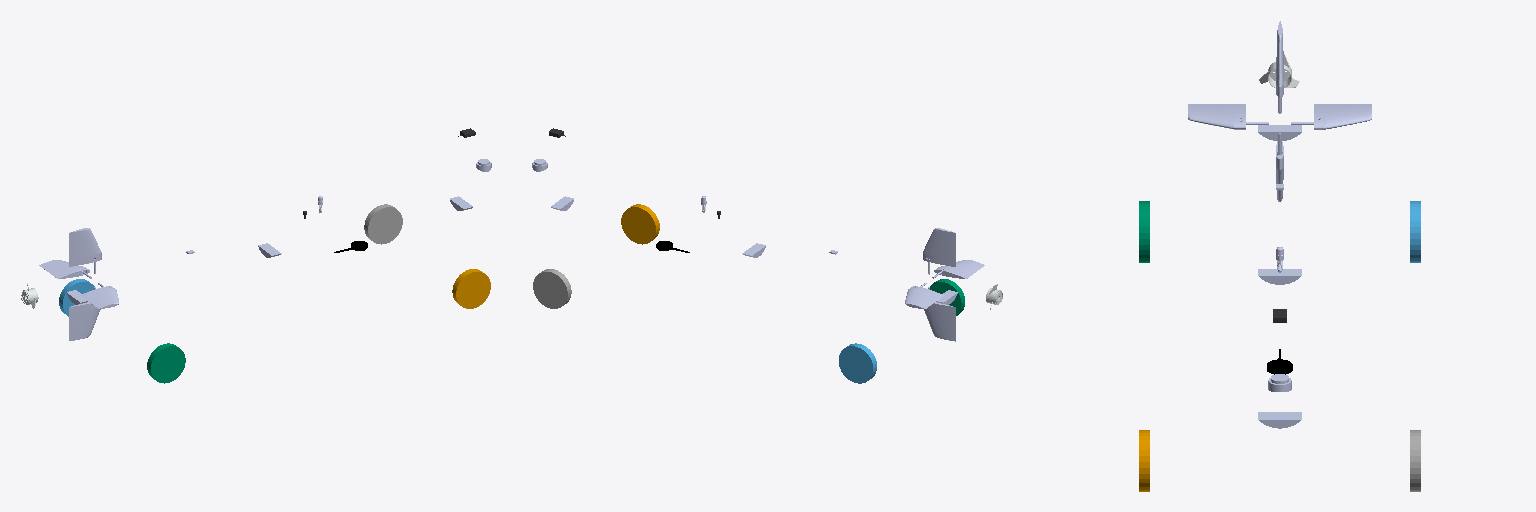
The robot description file, URDF, robot "ros_pralay_2_v1":
<?xml version="1.0" encoding="utf-8"?>
<!-- This URDF was automatically created by SolidWorks to URDF Exporter! Originally created by Stephen Brawner (brawner@gmail.com) 
     Commit Version: 1.6.0-4-g7f85cfe  Build Version: 1.6.7995.38578
     For more information, please see http://wiki.ros.org/sw_urdf_exporter -->
<robot name="ros_pralay_2_v1">
  <link name="base_link">
    <inertial>
      <origin xyz="-0.0695761062294844 -9.48671346927477E-06 0.000877181801452732" rpy="0 0 0" />
      <mass value="9.79712043227885" />
      <inertia ixx="0.0447126235666347" ixy="3.94289693366845E-07" ixz="-0.000145403305859678" iyy="0.253973375427658" iyz="-1.84761079624565E-07" izz="0.254731789225581" />
    </inertial>
    <visual>
      <origin xyz="0 0 0" rpy="0 0 0" />
      <geometry>
        <mesh filename="package://ros_pralay_2_v1/meshes/base_link.STL" />
      </geometry>
      <material name="">
        <color rgba="0.792156862745098 0.819607843137255 0.933333333333333 1" />
      </material>
    </visual>
    <collision>
      <origin xyz="0 0 0" rpy="0 0 0" />
      <geometry>
        <mesh filename="package://ros_pralay_2_v1/meshes/base_link.STL" />
      </geometry>
    </collision>
  </link>
  <link name="Relay">
    <inertial>
      <origin xyz="6.83463933226491E-08 4.92662147392475E-07 0.00355113921294595" rpy="0 0 0" />
      <mass value="0.0721986810753826" />
      <inertia ixx="2.04784989278166E-05" ixy="-5.11499199485322E-11" ixz="1.47170550991599E-12" iyy="1.92524275632253E-05" iyz="3.47312728754813E-12" izz="3.07027892657022E-05" />
    </inertial>
    <visual>
      <origin xyz="0 0 0" rpy="0 0 0" />
      <geometry>
        <mesh filename="package://ros_pralay_2_v1/meshes/Relay.STL" />
      </geometry>
      <material name="">
        <color rgba="0.792156862745098 0.819607843137255 0.933333333333333 1" />
      </material>
    </visual>
    <collision>
      <origin xyz="0 0 0" rpy="0 0 0" />
      <geometry>
        <mesh filename="package://ros_pralay_2_v1/meshes/Relay.STL" />
      </geometry>
    </collision>
  </link>
  <joint name="Relay_Joint" type="fixed">
    <origin xyz="0.958335678874898 0 0.0880385961079187" rpy="0 0 0" />
    <parent link="base_link" />
    <child link="Relay" />
    <axis xyz="0 0 0" />
  </joint>
  <link name="GPS">
    <inertial>
      <origin xyz="-0.000174359402530189 -1.12797282974888E-16 -0.00901589082133974" rpy="0 0 0" />
      <mass value="0.0342666933460838" />
      <inertia ixx="4.89018208757262E-06" ixy="-2.44853196285097E-20" ixz="-1.86912004033636E-08" iyy="8.33574324345704E-06" iyz="4.30697333592379E-20" izz="1.14366924213395E-05" />
    </inertial>
    <visual>
      <origin xyz="0 0 0" rpy="0 0 0" />
      <geometry>
        <mesh filename="package://ros_pralay_2_v1/meshes/GPS.STL" />
      </geometry>
      <material name="">
        <color rgba="0.250980392156863 0.250980392156863 0.250980392156863 1" />
      </material>
    </visual>
    <collision>
      <origin xyz="0 0 0" rpy="0 0 0" />
      <geometry>
        <mesh filename="package://ros_pralay_2_v1/meshes/GPS.STL" />
      </geometry>
    </collision>
  </link>
  <joint name="GPS_Joint" type="fixed">
    <origin xyz="0.884351257994062 0 0.257000000000018" rpy="0 0 0" />
    <parent link="base_link" />
    <child link="GPS" />
    <axis xyz="0 0 0" />
  </joint>
  <link name="NAV_light">
    <inertial>
      <origin xyz="1.18349905278703E-06 -1.74010305023887E-06 0.0132550867310289" rpy="0 0 0" />
      <mass value="0.0131155151362768" />
      <inertia ixx="1.63585932185847E-06" ixy="3.44975534791283E-11" ixz="-2.44298064699824E-10" iyy="1.63597664802954E-06" iyz="-4.71439991911305E-11" izz="5.57734867669779E-07" />
    </inertial>
    <visual>
      <origin xyz="0 0 0" rpy="0 0 0" />
      <geometry>
        <mesh filename="package://ros_pralay_2_v1/meshes/NAV_light.STL" />
      </geometry>
      <material name="">
        <color rgba="0.792156862745098 0.819607843137255 0.933333333333333 1" />
      </material>
    </visual>
    <collision>
      <origin xyz="0 0 0" rpy="0 0 0" />
      <geometry>
        <mesh filename="package://ros_pralay_2_v1/meshes/NAV_light.STL" />
      </geometry>
    </collision>
  </link>
  <joint name="NAV_light_Joint" type="fixed">
    <origin xyz="0.207899900987213 0 0.0882500000000149" rpy="0 0 0" />
    <parent link="base_link" />
    <child link="NAV_light" />
    <axis xyz="0 0 0" />
  </joint>
  <link name="DVL">
    <inertial>
      <origin xyz="-0.00524431732304925 -1.35174434053205E-07 -0.00232114159379157" rpy="0 0 0" />
      <mass value="0.0693659769689326" />
      <inertia ixx="1.72247163887539E-05" ixy="1.00373591081006E-10" ixz="2.74297481493299E-08" iyy="2.00855236090643E-05" iyz="-2.90019894644789E-12" izz="3.34153197441074E-05" />
    </inertial>
    <visual>
      <origin xyz="0 0 0" rpy="0 0 0" />
      <geometry>
        <mesh filename="package://ros_pralay_2_v1/meshes/DVL.STL" />
      </geometry>
      <material name="">
        <color rgba="0 0 0 1" />
      </material>
    </visual>
    <collision>
      <origin xyz="0 0 0" rpy="0 0 0" />
      <geometry>
        <mesh filename="package://ros_pralay_2_v1/meshes/DVL.STL" />
      </geometry>
    </collision>
  </link>
  <joint name="DVL_Joint" type="fixed">
    <origin xyz="0.388556867506674 -0.000335044692236923 -0.130006547832249" rpy="0 0 0" />
    <parent link="base_link" />
    <child link="DVL" />
    <axis xyz="0 0 0" />
  </joint>
  <link name="Depth_Sensor">
    <inertial>
      <origin xyz="0 1.38161622729997E-20 -0.0061086776762856" rpy="0 0 0" />
      <mass value="0.00323998658407695" />
      <inertia ixx="2.47080428194329E-07" ixy="-9.99644539096066E-24" ixz="1.57361070904428E-23" iyy="2.47080428194329E-07" iyz="3.36544284623507E-23" izz="7.50116883920103E-08" />
    </inertial>
    <visual>
      <origin xyz="0 0 0" rpy="0 0 0" />
      <geometry>
        <mesh filename="package://ros_pralay_2_v1/meshes/Depth_Sensor.STL" />
      </geometry>
      <material name="">
        <color rgba="0.250980392156863 0.250980392156863 0.250980392156863 1" />
      </material>
    </visual>
    <collision>
      <origin xyz="0 0 0" rpy="0 0 0" />
      <geometry>
        <mesh filename="package://ros_pralay_2_v1/meshes/Depth_Sensor.STL" />
      </geometry>
    </collision>
  </link>
  <joint name="Depth_Sensor_Joint" type="fixed">
    <origin xyz="0.137899900987215 0 0.072000000000015" rpy="0 0 0" />
    <parent link="base_link" />
    <child link="Depth_Sensor" />
    <axis xyz="0 0 0" />
  </joint>
  <link name="Fin_Top">
    <inertial>
      <origin xyz="-0.0421800652503688 0.000240028269424186 0.0913440444102142" rpy="0 0 0" />
      <mass value="0.261093809093477" />
      <inertia ixx="0.000424064486656722" ixy="-2.76382339936417E-09" ixz="7.79514426875884E-05" iyy="0.000682563718535557" iyz="1.36285655618386E-08" izz="0.000270491233223645" />
    </inertial>
    <visual>
      <origin xyz="0 0 0" rpy="0 0 0" />
      <geometry>
        <mesh filename="package://ros_pralay_2_v1/meshes/Fin_Top.STL" />
      </geometry>
      <material name="">
        <color rgba="0.792156862745098 0.819607843137255 0.933333333333333 1" />
      </material>
    </visual>
    <collision>
      <origin xyz="0 0 0" rpy="0 0 0" />
      <geometry>
        <mesh filename="package://ros_pralay_2_v1/meshes/Fin_Top.STL" />
      </geometry>
    </collision>
  </link>
  <joint name="Fin_Top_Joint" type="revolute">
    <origin xyz="-0.82585 0 0.0595" rpy="0 0 0" />
    <parent link="base_link" />
    <child link="Fin_Top" />
    <axis xyz="0 0 1" />
    <limit lower="-0.907571" upper="0.907571" effort="10" velocity="2" />
  </joint>
  <link name="Fin_Left">
    <inertial>
      <origin xyz="-0.0421800718169671 0.0913440469684711 -0.00024004287078554" rpy="0 0 0" />
      <mass value="0.261093813486492" />
      <inertia ixx="0.000424064324658659" ixy="7.79514857209155E-05" ixz="2.76403041721111E-09" iyy="0.000270491226108217" iyz="-1.36456427720851E-08" izz="0.000682563551710912" />
    </inertial>
    <visual>
      <origin xyz="0 0 0" rpy="0 0 0" />
      <geometry>
        <mesh filename="package://ros_pralay_2_v1/meshes/Fin_Left.STL" />
      </geometry>
      <material name="">
        <color rgba="0.792156862745098 0.819607843137255 0.933333333333333 1" />
      </material>
    </visual>
    <collision>
      <origin xyz="0 0 0" rpy="0 0 0" />
      <geometry>
        <mesh filename="package://ros_pralay_2_v1/meshes/Fin_Left.STL" />
      </geometry>
    </collision>
  </link>
  <joint name="Fin_Left_Joint" type="revolute">
    <origin xyz="-0.82585 0.0595 0" rpy="0 0 0" />
    <parent link="base_link" />
    <child link="Fin_Left" />
    <axis xyz="0 1 0" />
    <limit lower="-0.907571" upper="0.907571" effort="10" velocity="2" />
  </joint>
  <link name="Fin_Bottom">
    <inertial>
      <origin xyz="-0.0421800482388229 -0.000240035606270037 -0.0913441037902421" rpy="0 0 0" />
      <mass value="0.261094096502556" />
      <inertia ixx="0.00042406429585438" ixy="2.76217017863878E-09" ixz="-7.79514622426508E-05" iyy="0.000682563527110738" iyz="1.36444924375591E-08" izz="0.000270491230036146" />
    </inertial>
    <visual>
      <origin xyz="0 0 0" rpy="0 0 0" />
      <geometry>
        <mesh filename="package://ros_pralay_2_v1/meshes/Fin_Bottom.STL" />
      </geometry>
      <material name="">
        <color rgba="0.792156862745098 0.819607843137255 0.933333333333333 1" />
      </material>
    </visual>
    <collision>
      <origin xyz="0 0 0" rpy="0 0 0" />
      <geometry>
        <mesh filename="package://ros_pralay_2_v1/meshes/Fin_Bottom.STL" />
      </geometry>
    </collision>
  </link>
  <joint name="Fin_Bottom_Joint" type="revolute">
    <origin xyz="-0.82585 0 -0.0595" rpy="0 0 0" />
    <parent link="base_link" />
    <child link="Fin_Bottom" />
    <axis xyz="0 0 -1" />
    <limit lower="-0.907571" upper="0.907571" effort="10" velocity="2" />
  </joint>
  <link name="Fin_Right">
    <inertial>
      <origin xyz="-0.0421800718545086 -0.0913440469961033 0.000240042881606959" rpy="0 0 0" />
      <mass value="0.261093813465297" />
      <inertia ixx="0.000424064324641104" ixy="-7.79514856604083E-05" ixz="-2.76403902495547E-09" iyy="0.000270491226042404" iyz="-1.36456356563039E-08" izz="0.000682563551615187" />
    </inertial>
    <visual>
      <origin xyz="0 0 0" rpy="0 0 0" />
      <geometry>
        <mesh filename="package://ros_pralay_2_v1/meshes/Fin_Right.STL" />
      </geometry>
      <material name="">
        <color rgba="0.792156862745098 0.819607843137255 0.933333333333333 1" />
      </material>
    </visual>
    <collision>
      <origin xyz="0 0 0" rpy="0 0 0" />
      <geometry>
        <mesh filename="package://ros_pralay_2_v1/meshes/Fin_Right.STL" />
      </geometry>
    </collision>
  </link>
  <joint name="Fin_Right_Joint" type="revolute">
    <origin xyz="-0.82585 -0.0595 0" rpy="0 0 0" />
    <parent link="base_link" />
    <child link="Fin_Right" />
    <axis xyz="0 -1 0" />
    <limit lower="-0.907571" upper="0.907571" effort="10" velocity="2" />
  </joint>
  <link name="T1">
    <inertial>
      <origin xyz="0.0135142257403666 -1.92602336297741E-06 -2.9146721686151E-06" rpy="0 0 0" />
      <mass value="0.0661321679007585" />
      <inertia ixx="6.59393410402782E-05" ixy="-2.15009855598357E-09" ixz="-3.39311609334925E-09" iyy="4.21993779557645E-05" iyz="1.57004485773318E-09" izz="4.22029873716778E-05" />
    </inertial>
    <visual>
      <origin xyz="0 0 0" rpy="0 0 0" />
      <geometry>
        <mesh filename="package://ros_pralay_2_v1/meshes/T1.STL" />
      </geometry>
      <material name="">
        <color rgba="0.898039215686275 0.917647058823529 0.929411764705882 1" />
      </material>
    </visual>
    <collision>
      <origin xyz="0 0 0" rpy="0 0 0" />
      <geometry>
        <mesh filename="package://ros_pralay_2_v1/meshes/T1.STL" />
      </geometry>
    </collision>
  </link>
  <joint name="T1_Joint" type="continuous">
    <origin xyz="-1.1433 0 0" rpy="0 0 0" />
    <parent link="base_link" />
    <child link="T1" />
    <axis xyz="-1 0 0" />
  </joint>
  <link name="Front_DW">
    <inertial>
      <origin xyz="-1.77635683940025E-15 -2.57363315967515E-16 -0.0105693590405256" rpy="0 0 0" />
      <mass value="0.0928718542183865" />
      <inertia ixx="6.81295590492205E-05" ixy="-4.03756699216532E-21" ixz="2.92269126728774E-21" iyy="2.00095854936661E-05" iyz="8.79095622520496E-21" izz="7.94642243542598E-05" />
    </inertial>
    <visual>
      <origin xyz="0 0 0" rpy="0 0 0" />
      <geometry>
        <mesh filename="package://ros_pralay_2_v1/meshes/Front_DW.STL" />
      </geometry>
      <material name="">
        <color rgba="0.792156862745098 0.819607843137255 0.933333333333333 1" />
      </material>
    </visual>
    <collision>
      <origin xyz="0 0 0" rpy="0 0 0" />
      <geometry>
        <mesh filename="package://ros_pralay_2_v1/meshes/Front_DW.STL" />
      </geometry>
    </collision>
  </link>
  <joint name="Front_DW_Joint" type="fixed">
    <origin xyz="0.85499 0 -0.05" rpy="0 0 0" />
    <parent link="base_link" />
    <child link="Front_DW" />
    <axis xyz="0 0 0" />
  </joint>
  <link name="Centre_DW">
    <inertial>
      <origin xyz="-6.93889390390723E-18 -1.89321447037049E-17 -0.0105693590405539" rpy="0 0 0" />
      <mass value="0.0928718542183867" />
      <inertia ixx="6.81295590492206E-05" ixy="-2.63812048382479E-21" ixz="-5.9250250619812E-21" iyy="2.00095854936661E-05" iyz="7.22780780491922E-21" izz="7.946422435426E-05" />
    </inertial>
    <visual>
      <origin xyz="0 0 0" rpy="0 0 0" />
      <geometry>
        <mesh filename="package://ros_pralay_2_v1/meshes/Centre_DW.STL" />
      </geometry>
      <material name="">
        <color rgba="0.792156862745098 0.819607843137255 0.933333333333333 1" />
      </material>
    </visual>
    <collision>
      <origin xyz="0 0 0" rpy="0 0 0" />
      <geometry>
        <mesh filename="package://ros_pralay_2_v1/meshes/Centre_DW.STL" />
      </geometry>
    </collision>
  </link>
  <joint name="Centre_DW_Joint" type="fixed">
    <origin xyz="-0.0235 0 -0.05" rpy="0 0 0" />
    <parent link="base_link" />
    <child link="Centre_DW" />
    <axis xyz="0 0 0" />
  </joint>
  <link name="Rear_DW">
    <inertial>
      <origin xyz="-1.15557833353844E-16 -0.0605693590405578 1.11022302462516E-16" rpy="0 0 0" />
      <mass value="0.0928718542183865" />
      <inertia ixx="2.00095854936661E-05" ixy="-5.54017674895535E-21" ixz="5.03637646139913E-21" iyy="7.94642243542599E-05" iyz="1.64281792080161E-21" izz="6.81295590492206E-05" />
    </inertial>
    <visual>
      <origin xyz="0 0 0" rpy="0 0 0" />
      <geometry>
        <mesh filename="package://ros_pralay_2_v1/meshes/Rear_DW.STL" />
      </geometry>
      <material name="">
        <color rgba="0.792156862745098 0.819607843137255 0.933333333333333 1" />
      </material>
    </visual>
    <collision>
      <origin xyz="0 0 0" rpy="0 0 0" />
      <geometry>
        <mesh filename="package://ros_pralay_2_v1/meshes/Rear_DW.STL" />
      </geometry>
    </collision>
  </link>
  <joint name="Rear_DW_Joint" type="fixed">
    <origin xyz="-0.902 0 0" rpy="1.5708 0 -1.5708" />
    <parent link="base_link" />
    <child link="Rear_DW" />
    <axis xyz="0 0 0" />
  </joint>
  <link name="IMU">
    <inertial>
      <origin xyz="-9.2148511043888E-15 2.3922300293036E-17 -0.0025" rpy="0 0 0" />
      <mass value="0.00308" />
      <inertia ixx="1.30643333333333E-07" ixy="9.87041836114139E-22" ixz="-1.30699345824829E-21" iyy="2.07643333333334E-07" iyz="-1.22053361918098E-21" izz="3.25453333333334E-07" />
    </inertial>
    <visual>
      <origin xyz="0 0 0" rpy="0 0 0" />
      <geometry>
        <mesh filename="package://ros_pralay_2_v1/meshes/IMU.STL" />
      </geometry>
      <material name="">
        <color rgba="0.792156862745098 0.819607843137255 0.933333333333333 1" />
      </material>
    </visual>
    <collision>
      <origin xyz="0 0 0" rpy="0 0 0" />
      <geometry>
        <mesh filename="package://ros_pralay_2_v1/meshes/IMU.STL" />
      </geometry>
    </collision>
  </link>
  <joint name="IMU_Link" type="fixed">
    <origin xyz="-0.3876 0 0.025793" rpy="0 0 0" />
    <parent link="base_link" />
    <child link="IMU" />
    <axis xyz="0 0 0" />
  </joint>
  <link name="front_left_wheel">
    <inertial>
      <mass value="0.1"/>
      <origin xyz="0 0 0"/>
      <inertia 
            ixx="0.001"
            ixy="0"
            ixz="0"
            iyy="0.001"
            iyz="0"
            izz="0.001"/>
    </inertial>
    <visual>
      <geometry>
        <cylinder radius="0.08" length="0.03"/>
      </geometry>
      <material name="black"/>
    </visual>
    <collision>
      <geometry>
        <cylinder radius="0.08" length="0.03"/>
      </geometry>
    </collision>
  </link>
  <link name="front_right_wheel">
    <inertial>
      <mass value="0.1"/>
      <origin xyz="0 0 0"/>
      <inertia 
            ixx="0.001"
            ixy="0"
            ixz="0"
            iyy="0.001"
            iyz="0"
            izz="0.001"/>
    </inertial>
    <visual>
      <geometry>
        <cylinder radius="0.08" length="0.03"/>
      </geometry>
      <material name="black"/>
    </visual>
    <collision>
      <geometry>
        <cylinder radius="0.08" length="0.03"/>
      </geometry>
    </collision>
  </link>
  <link name="rear_left_wheel">
    <inertial>
      <mass value="0.1"/>
      <origin xyz="0 0 0"/>
      <inertia 
            ixx="0.001"
            ixy="0"
            ixz="0"
            iyy="0.001"
            iyz="0"
            izz="0.001"/>
    </inertial>
    <visual>
      <geometry>
        <cylinder radius="0.08" length="0.03"/>
      </geometry>
      <material name="black"/>
    </visual>
    <collision>
      <geometry>
        <cylinder radius="0.08" length="0.03"/>
      </geometry>
    </collision>
  </link>
  <link name="rear_right_wheel">
    <inertial>
      <mass value="0.1"/>
      <origin xyz="0 0 0"/>
      <inertia 
            ixx="0.001"
            ixy="0"
            ixz="0"
            iyy="0.001"
            iyz="0"
            izz="0.001"/>
    </inertial>
    <visual>
      <geometry>
        <cylinder radius="0.08" length="0.03"/>
      </geometry>
      <material name="black"/>
    </visual>
    <collision>
      <geometry>
        <cylinder radius="0.08" length="0.03"/>
      </geometry>
    </collision>
  </link>





  
  <joint name="front_left_wheel_joint"
       type="continuous">
    <origin xyz="0.0 0.0 0.0"
            rpy="1.5708 0 0"/>
    <parent link="front_left_steering"/>
    <child link="front_left_wheel"/>
    <axis xyz="0 0 1"/>
  </joint>
  <joint name="front_right_wheel_joint"
       type="continuous">
    <origin xyz="0.0 0.0 0.0"
            rpy="1.5708 0 0"/>
    <parent link="front_right_steering"/>
    <child link="front_right_wheel"/>
    <axis xyz="0 0 1"/>
  </joint>
  <joint name="rear_left_wheel_joint"
       type="continuous">
    <origin xyz="-0.7 0.35 -0.25"
            rpy="1.5708 0 0"/>
    <parent link="base_link"/>
    <child link="rear_left_wheel"/>
    <axis xyz="0 0 1"/>
  </joint>
  <joint name="rear_right_wheel_joint"
       type="continuous">
    <origin xyz="-0.7 -0.35 -0.25"
            rpy="1.5708 0 0"/>
    <parent link="base_link"/>
    <child link="rear_right_wheel"/>
    <axis xyz="0 0 1"/>
  </joint>
  <link name="front_left_steering"/>
  <link name="front_right_steering"/>
  <joint name="front_left_steering_joint"
       type="revolute">
    <origin xyz="0.7 0.35 -0.25"/>
    <parent link="base_link"/>
    <child link="front_left_steering"/>
    <axis xyz="0 0 1"/>
    <limit
 lower="-0.6"
 upper="0.6"
 effort="20"
 velocity="2"/>
  </joint>
  <joint name="front_right_steering_joint"
       type="revolute">
    <origin xyz="0.7 -0.35 -0.25"/>
    <parent link="base_link"/>
    <child link="front_right_steering"/>
    <axis xyz="0 0 1"/>
    <limit
 lower="-0.6"
 upper="0.6"
 effort="20"
 velocity="2"/>
  </joint>
</robot>

--- Render facts (derived) ---
3 views of the same robot in one strip: view 1: azimuth 30°, elevation 25°; view 2: azimuth 150°, elevation 25°; view 3: azimuth 270°, elevation 25° (orthographic).
Model ros_pralay_2_v1 with 21 links and 20 joints (6 revolute, 5 continuous, 9 fixed), rooted at base_link, posed every joint at zero.
Visible links, largest first — view 1: front_right_wheel, front_left_wheel, rear_right_wheel, Fin_Top, Fin_Bottom, Fin_Right, Fin_Left, rear_left_wheel; view 2: front_left_wheel, rear_left_wheel, front_right_wheel, Fin_Top, Fin_Bottom, Fin_Left, Fin_Right; view 3: Fin_Left, Fin_Right, front_left_wheel, front_right_wheel, rear_left_wheel, rear_right_wheel, Front_DW, Fin_Top, Rear_DW, Centre_DW.
Link boxes in pixels (x1,y1,x2,y2): front_right_wheel: [452, 269, 490, 308]; front_left_wheel: [364, 204, 402, 244]; rear_right_wheel: [147, 343, 185, 383]; Fin_Top: [69, 228, 101, 273]; Fin_Bottom: [69, 287, 100, 340]; Fin_Right: [80, 283, 118, 308]; Fin_Left: [39, 260, 91, 278]; rear_left_wheel: [59, 279, 94, 316]; front_left_wheel: [533, 269, 571, 308]; rear_left_wheel: [839, 343, 876, 383]; front_right_wheel: [621, 204, 659, 244]; Fin_Top: [923, 228, 955, 274]; Fin_Bottom: [924, 287, 955, 341]; Fin_Left: [905, 283, 943, 308]; Fin_Right: [932, 260, 984, 278]; Fin_Left: [1291, 104, 1371, 129]; Fin_Right: [1188, 104, 1268, 129]; front_left_wheel: [1410, 430, 1420, 491]; front_right_wheel: [1139, 430, 1149, 491]; rear_left_wheel: [1410, 201, 1420, 262]; rear_right_wheel: [1139, 201, 1149, 262]; Front_DW: [1258, 412, 1301, 428]; Fin_Top: [1276, 21, 1283, 113]; Rear_DW: [1258, 125, 1301, 140]; Centre_DW: [1258, 269, 1301, 284].
Size in the robot's own frame: 2.14 by 0.73 by 0.587 metres.
Meshes: 15 distinct files referenced, 14 mesh visuals loaded (14 binary STL); not drawn: 1 (reference not matched to a file when rendering).
